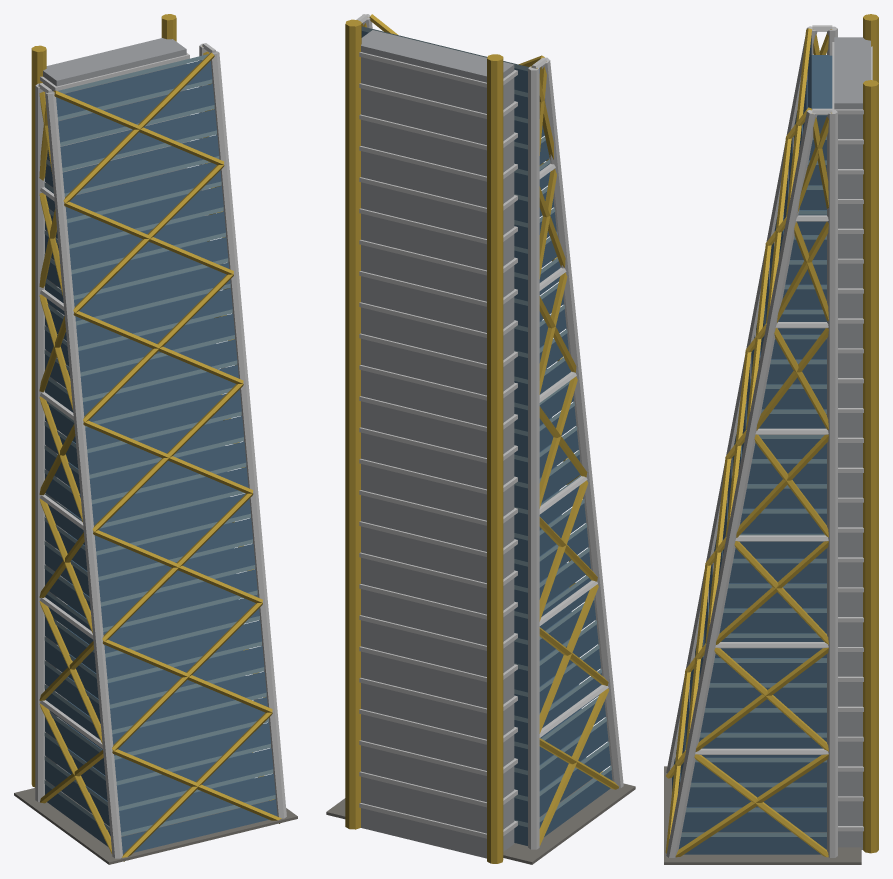
File: cheesegrater.glb
3 views of the same model, side by side, from view 1: azimuth 30°, elevation 25°; view 2: azimuth 150°, elevation 25°; view 3: azimuth 270°, elevation 25° (orthographic). The views are drawn at different scales.
Parts seen in each view (by area): view 1: cheesegrater; view 2: cheesegrater; view 3: cheesegrater.
Boxes of the visible parts, x1,y1,x2,y2 form: cheesegrater: (14,14,297,864); cheesegrater: (326,14,635,864); cheesegrater: (664,14,878,864).
Bounding box in the file's own units: 62 × 232 × 58.7.
